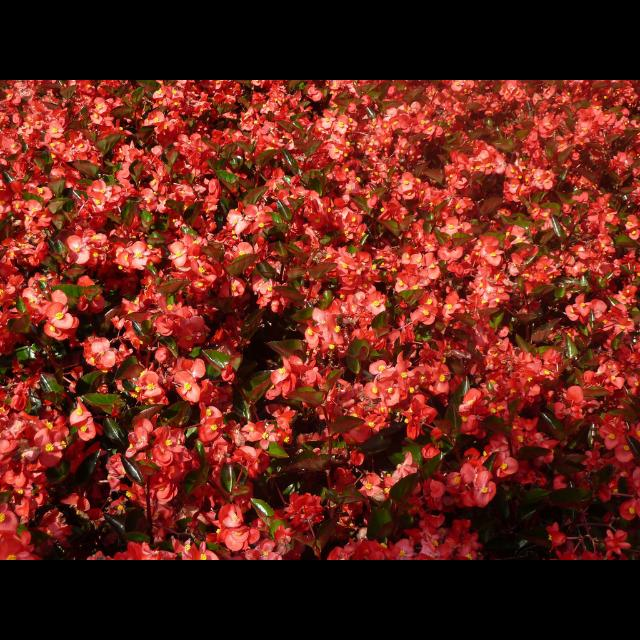Flower: (1, 80, 640, 560), (280, 498, 328, 544)
